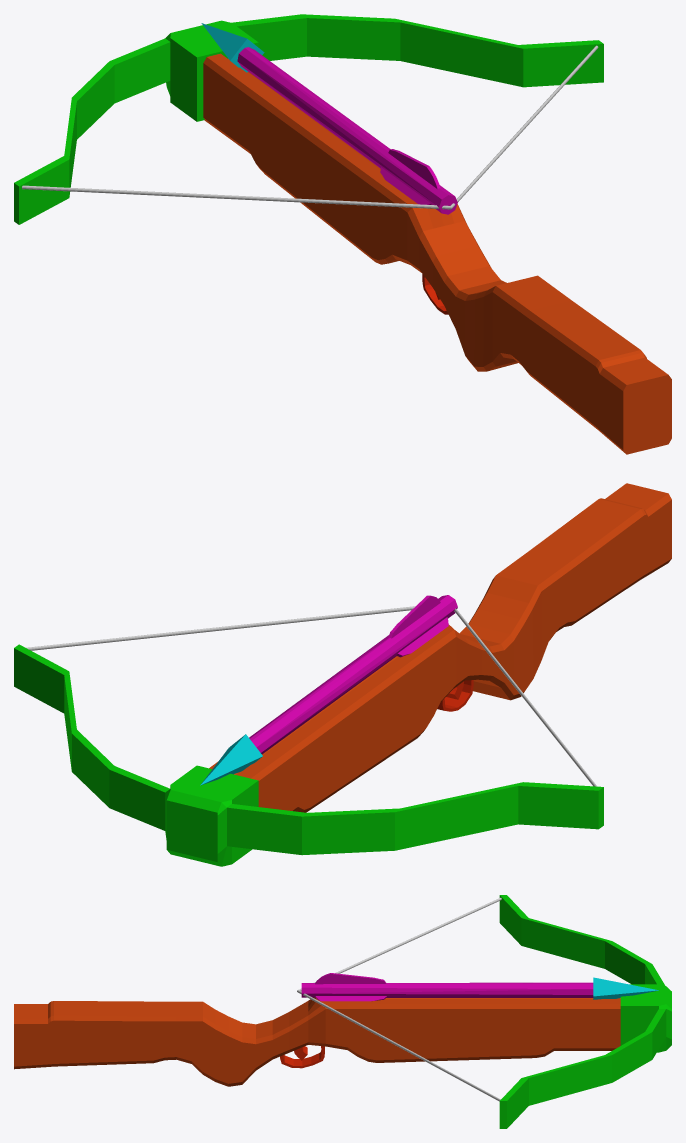
The model's file is Crossbow.fbx.
3 renders of one model, top to bottom at view 1: azimuth 30°, elevation 25°; view 2: azimuth 150°, elevation 25°; view 3: azimuth 270°, elevation 25°, orthographic. The views are drawn at different scales.
Parts seen in each view (by area): view 1: Grip, Limb, Arrow, Rope, ArrowHead; view 2: Grip, Limb, Arrow, Rope, ArrowHead, Cube; view 3: Grip, Limb, Arrow, Rope, ArrowHead, Cube.
Part boxes in pixels (left/top/right/bottom): Grip: left=203, top=53, right=671, bottom=454; Limb: left=14, top=14, right=603, bottom=224; Arrow: left=237, top=47, right=457, bottom=214; Rope: left=22, top=45, right=598, bottom=209; ArrowHead: left=201, top=23, right=264, bottom=72; Grip: left=209, top=483, right=671, bottom=812; Limb: left=14, top=644, right=603, bottom=866; Arrow: left=249, top=595, right=457, bottom=754; Rope: left=26, top=606, right=597, bottom=786; ArrowHead: left=200, top=734, right=262, bottom=785; Cube: left=437, top=680, right=473, bottom=711; Grip: left=14, top=997, right=620, bottom=1086; Limb: left=499, top=895, right=671, bottom=1128; Arrow: left=301, top=973, right=593, bottom=1001; Rope: left=297, top=897, right=501, bottom=1101; ArrowHead: left=593, top=977, right=658, bottom=999; Cube: left=280, top=1046, right=324, bottom=1068.
Size of the model in its own units: 8204 by 1979 by 11069.
